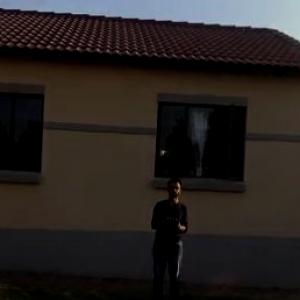follow: (142, 171, 191, 299)
